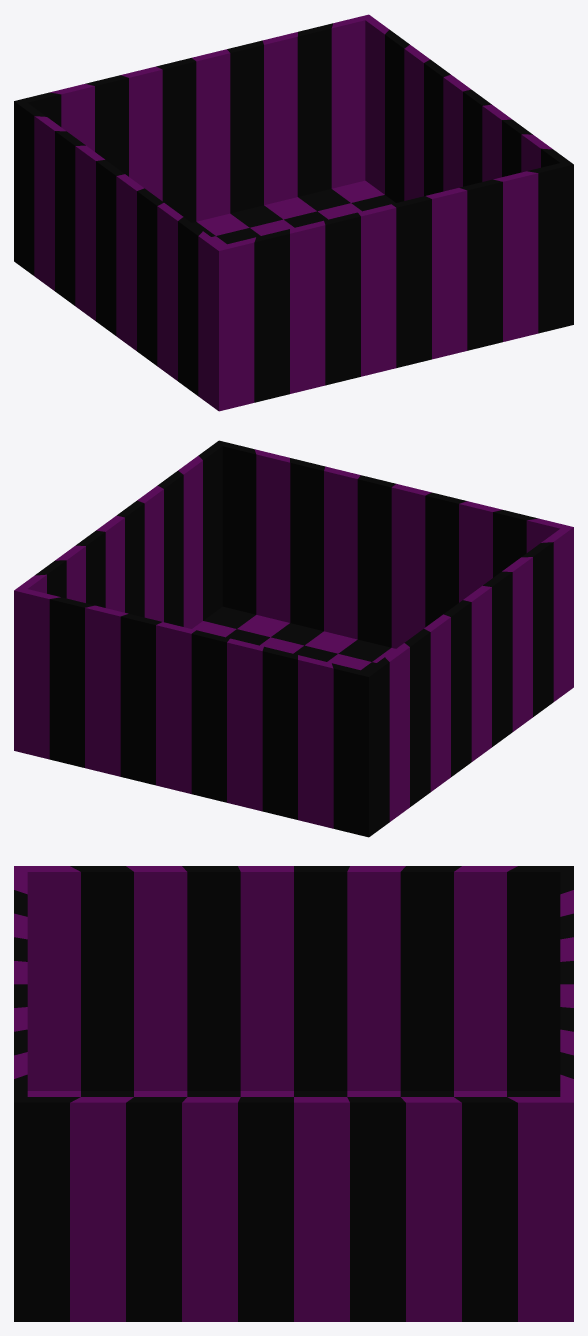
Rendered from battlefield1.fbx.
3 views of the same model, one above another, from view 1: azimuth 30°, elevation 25°; view 2: azimuth 150°, elevation 25°; view 3: azimuth 270°, elevation 25° (orthographic). The views are drawn at different scales.
Visible parts, largest first — view 1: pPlane1; view 2: pPlane1; view 3: pPlane1.
Boxes of the visible parts, box(x1,y1,x2,y2) form: pPlane1: box(14, 14, 573, 411); pPlane1: box(14, 440, 573, 837); pPlane1: box(14, 866, 573, 1321).
Bounding box in the file's own units: 154 × 66.51 × 154.
